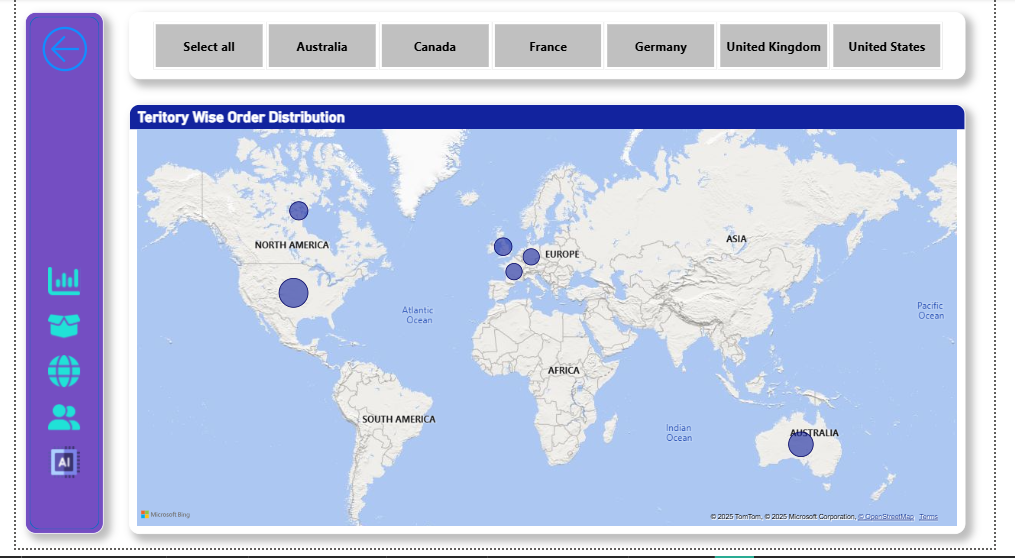

The dashboard page shown, as its layout file describes it:
{"tool":"powerbi","page":{"name":"Map Visual","canvas":[1280,720],"ordinal":3},"visuals":[{"type":"map","title":"Teritory Wise Order Distribution","fields":{"Category":["Territory Lookup.Teritory Hierarchy.Continent","Territory Lookup.Teritory Hierarchy.Country","Territory Lookup.Teritory Hierarchy.Region"],"X":["_Measures.Total  Order"],"Size":["_Measures.Total  Order"]},"box":[148.3,138.3,1095,563.3],"z":0},{"type":"shape","box":[11.7,18.3,103.3,683.3],"z":1000,"group":"g1"},{"type":"slicer","fields":{"Values":["Territory Lookup.Country"]},"box":[148.3,18.3,1095,88.3],"z":1000},{"type":"group","id":"g1","title":"Group 2","box":[11.7,18.3,103.3,683.3],"z":2000},{"type":"actionButton","box":[21.7,30,83.3,73.3],"z":3000},{"type":"actionButton","box":[25,345,75,50],"z":14000,"group":"g2"},{"type":"actionButton","box":[25,404.2,75,50],"z":15000,"group":"g2"},{"type":"actionButton","box":[25,463.3,75,50],"z":16000,"group":"g2"},{"type":"actionButton","box":[25,522.5,75,50],"z":17000,"group":"g2"},{"type":"actionButton","box":[25,581.7,75,50],"z":18000,"group":"g2"},{"type":"group","id":"g2","title":"Group 1","box":[25,345,75,286.7],"z":18001,"group":"g1"}]}

Visuals, with their boxes in screenshot pixels (x1, y1, x2, y2):
"Teritory Wise Order Distribution" map: pyautogui.locateOnScreen(128, 104, 995, 550)
shape: pyautogui.locateOnScreen(20, 9, 102, 550)
slicer - Territory Lookup.Country: pyautogui.locateOnScreen(128, 9, 995, 79)
"Group 2" group: pyautogui.locateOnScreen(20, 9, 102, 550)
actionButton: pyautogui.locateOnScreen(28, 18, 94, 77)
actionButton: pyautogui.locateOnScreen(30, 268, 90, 308)
actionButton: pyautogui.locateOnScreen(30, 315, 90, 354)
actionButton: pyautogui.locateOnScreen(30, 362, 90, 401)
actionButton: pyautogui.locateOnScreen(30, 409, 90, 448)
actionButton: pyautogui.locateOnScreen(30, 455, 90, 495)
"Group 1" group: pyautogui.locateOnScreen(30, 268, 90, 495)
